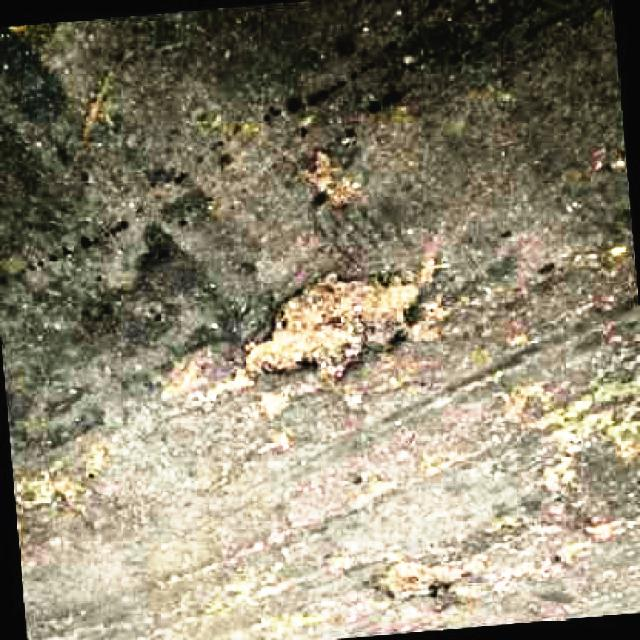pothole: (242, 256, 423, 386)
